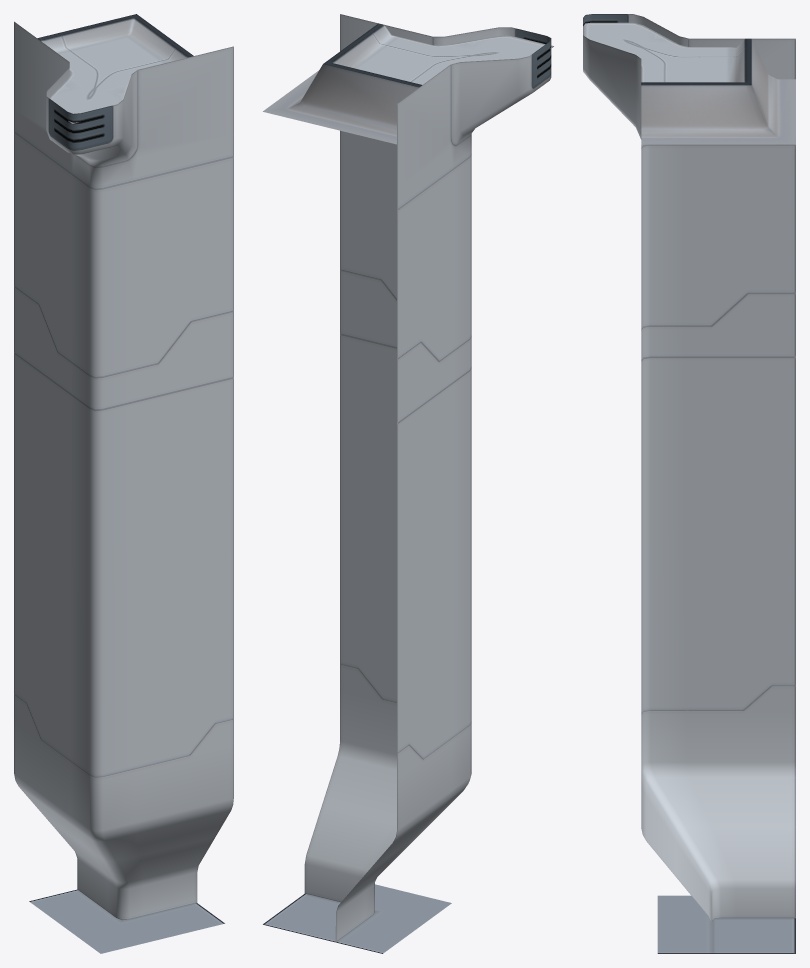
Rendered from Room_A_corner_inner.fbx.
3 renders of one model, left to right at view 1: azimuth 30°, elevation 25°; view 2: azimuth 150°, elevation 25°; view 3: azimuth 270°, elevation 25°, orthographic. The views are drawn at different scales.
Visible parts, largest first — view 1: Room_A_corner_inner; view 2: Room_A_corner_inner; view 3: Room_A_corner_inner.
Boxes of the visible parts, x1,y1,x2,y2 form: Room_A_corner_inner: (14,14,233,953); Room_A_corner_inner: (263,14,553,953); Room_A_corner_inner: (583,14,795,953).
Bounding box in the file's own units: 90.84 × 400 × 90.84.
Materials: 3 (3 with a texture image).
